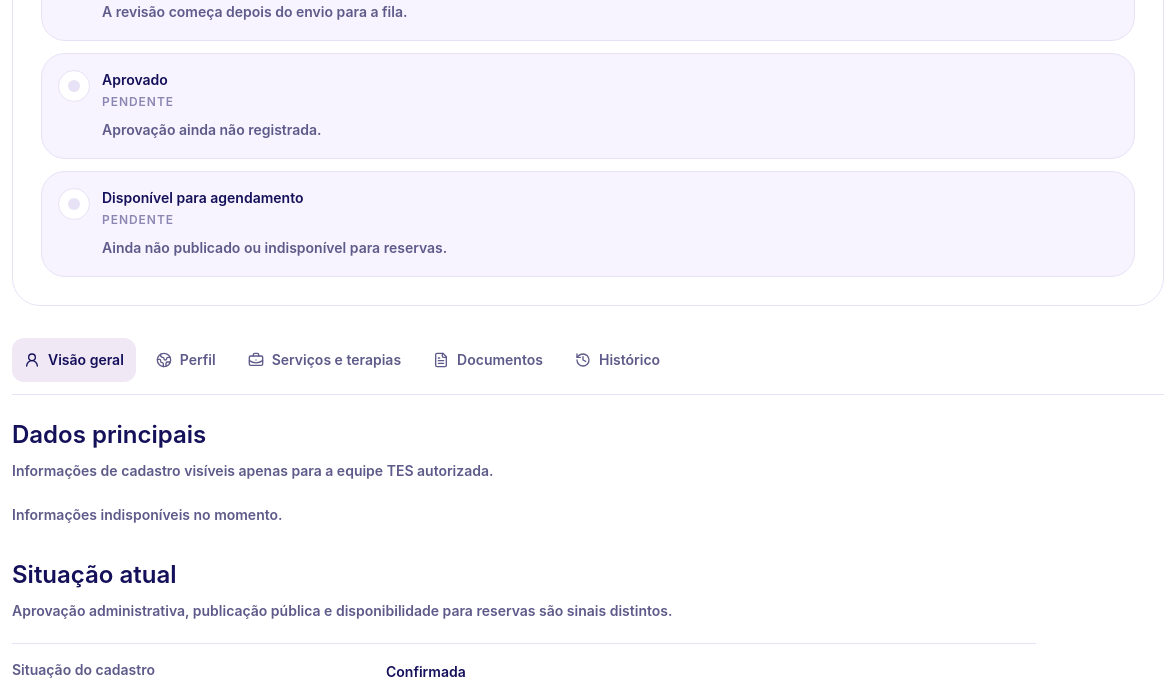
admin operation detail pages › keeps submitted profile content and private contact details inside their tabs
(page scrolled)
Click the tab "Perfil" at (186, 360), box [144, 338, 228, 382]
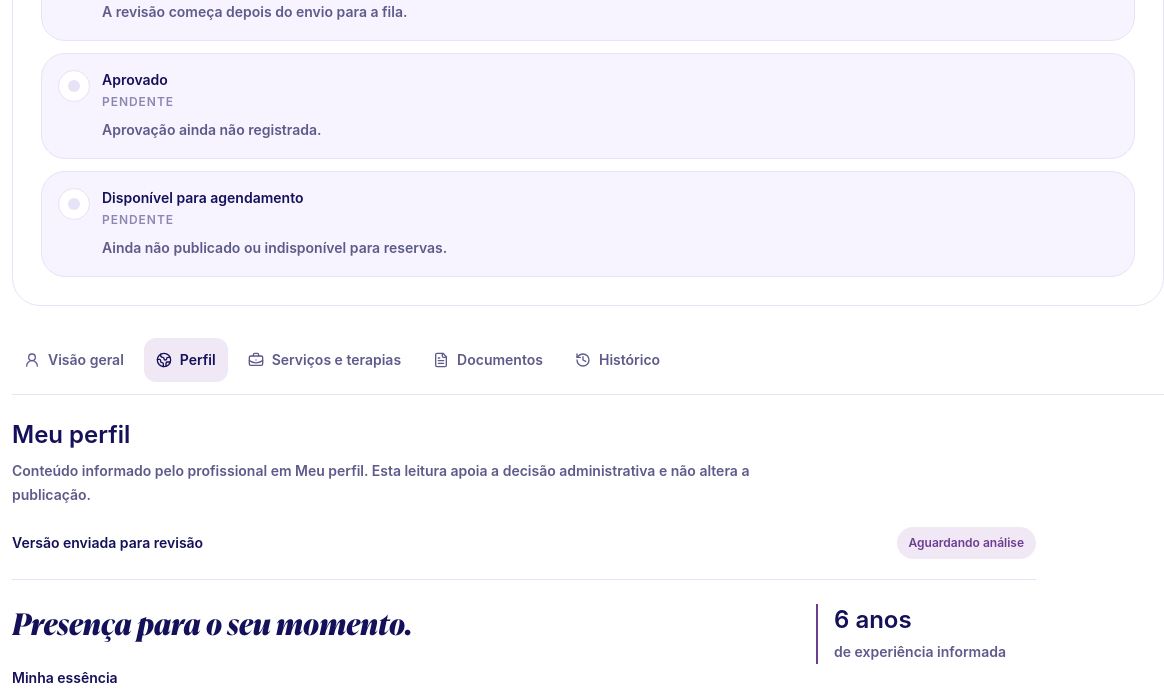
expect the heading "Meu perfil" is shown: met, box [12, 420, 130, 449]
Click the tab "Serviços e terapias" at (324, 360), box [236, 338, 413, 382]
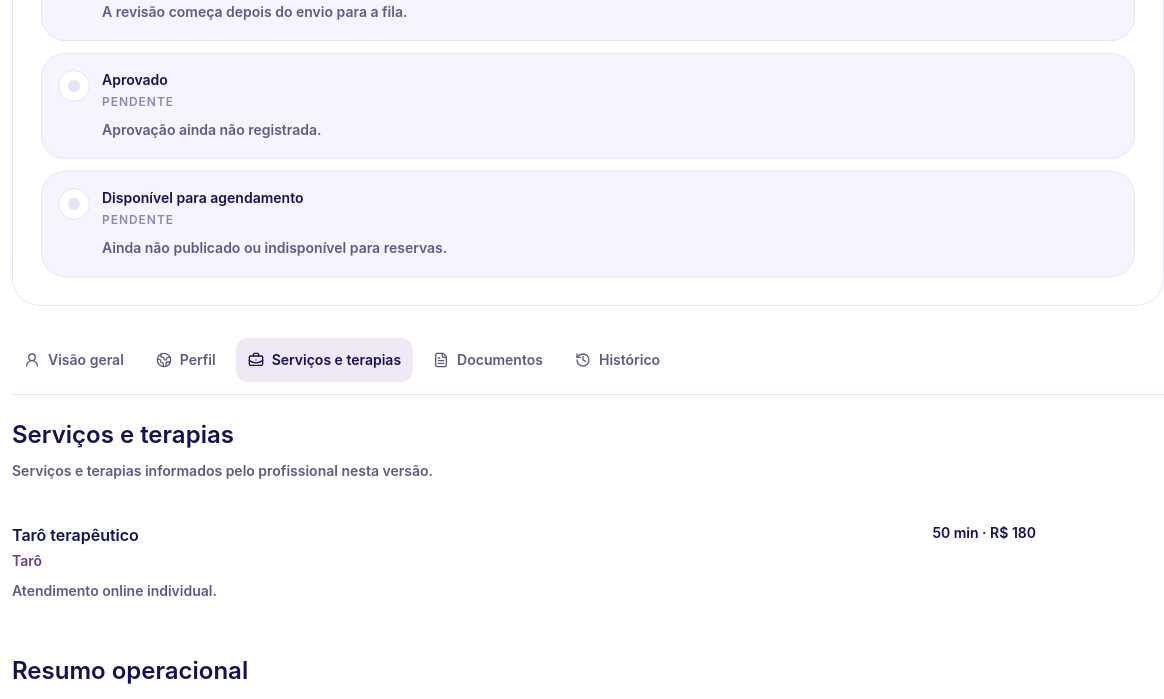
expect the text "Tarô terapêutico" is shown: met, box [12, 525, 139, 545]
expect the text "Atendimento online individual." is shown: met, box [12, 582, 217, 599]
